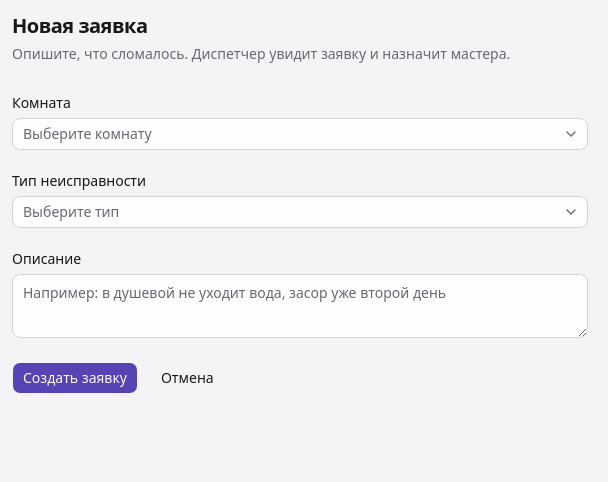
Test: shows validation errors on empty submit
Expected: the dropdown named "Комната" is shown, left=12, top=118, right=588, bottom=150
Expected: the dropdown named "Тип неисправности" is shown, left=12, top=196, right=588, bottom=228
Click the button "Создать заявку" at (75, 378), box left=12, top=362, right=138, bottom=394
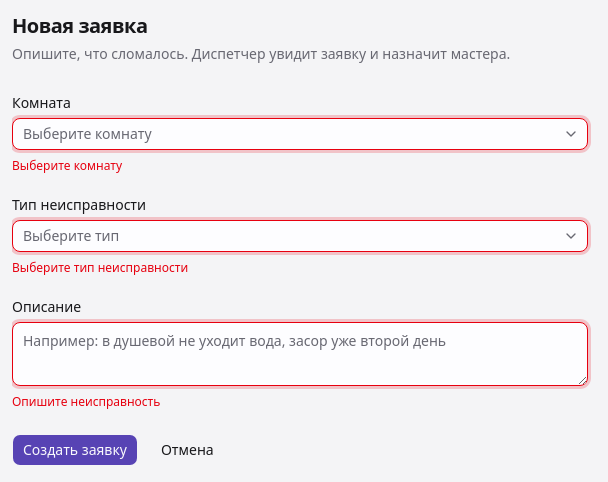
Result: the text "Опишите неисправность" is shown at left=12, top=393, right=160, bottom=410
